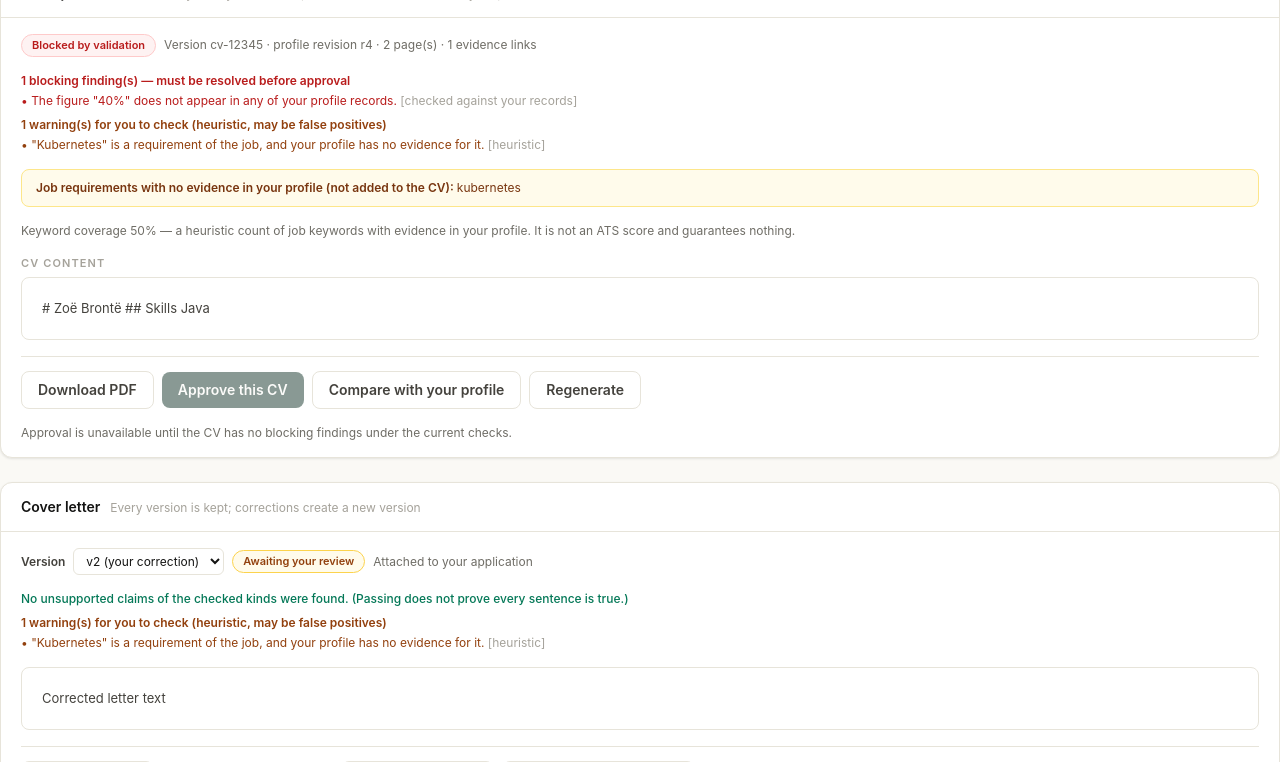
Scenario: PrepWorkspace › renders the deterministic profile-versus-CV comparison
The image size is (1280, 762).
(page scrolled)
Click the button "Compare with your profile" at (416, 390), box [312,371,521,409]
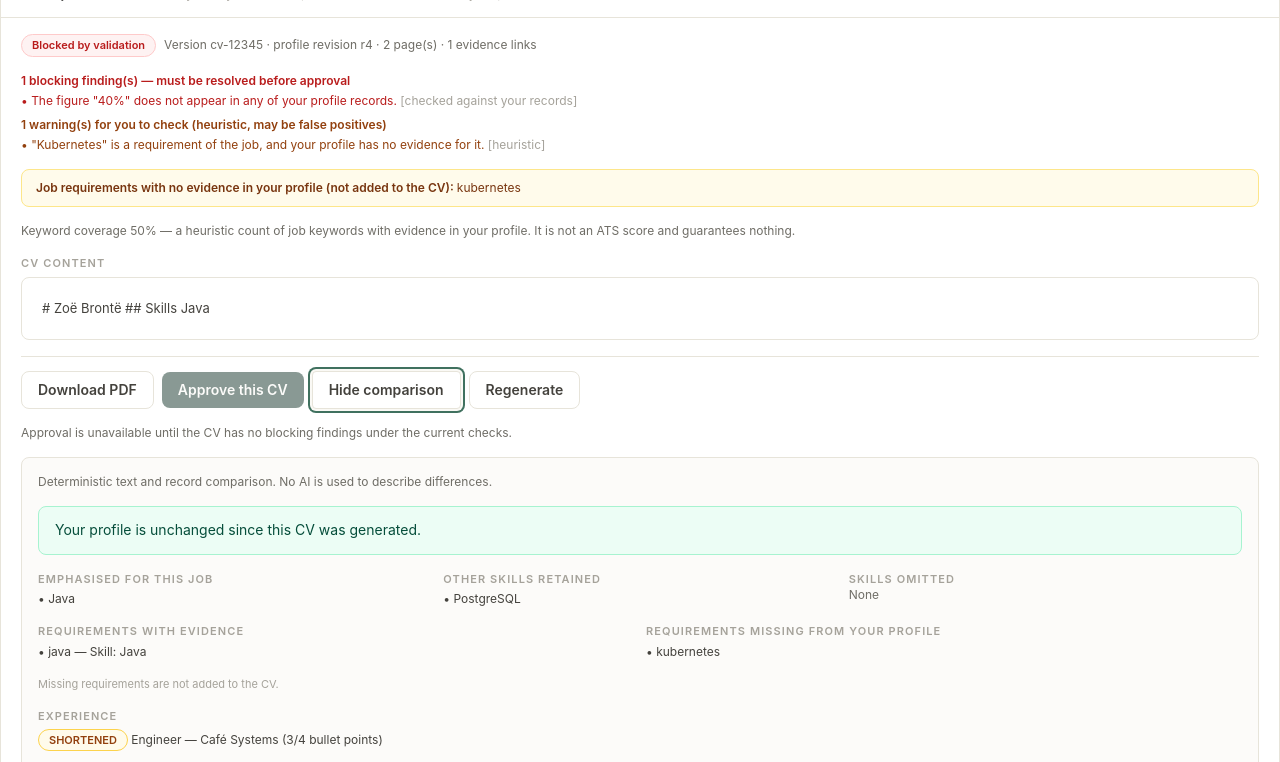
Result: the text "No AI is used to describe differences" is shown at [38,474,492,489]
Result: the list item "• Java" is shown at [38,591,75,606]
Result: the list item "• java — Skill: Java" is shown at [38,644,146,659]
